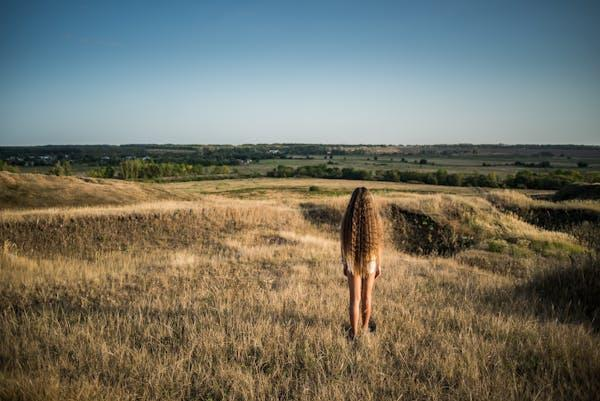Human: (338, 179, 391, 352)
